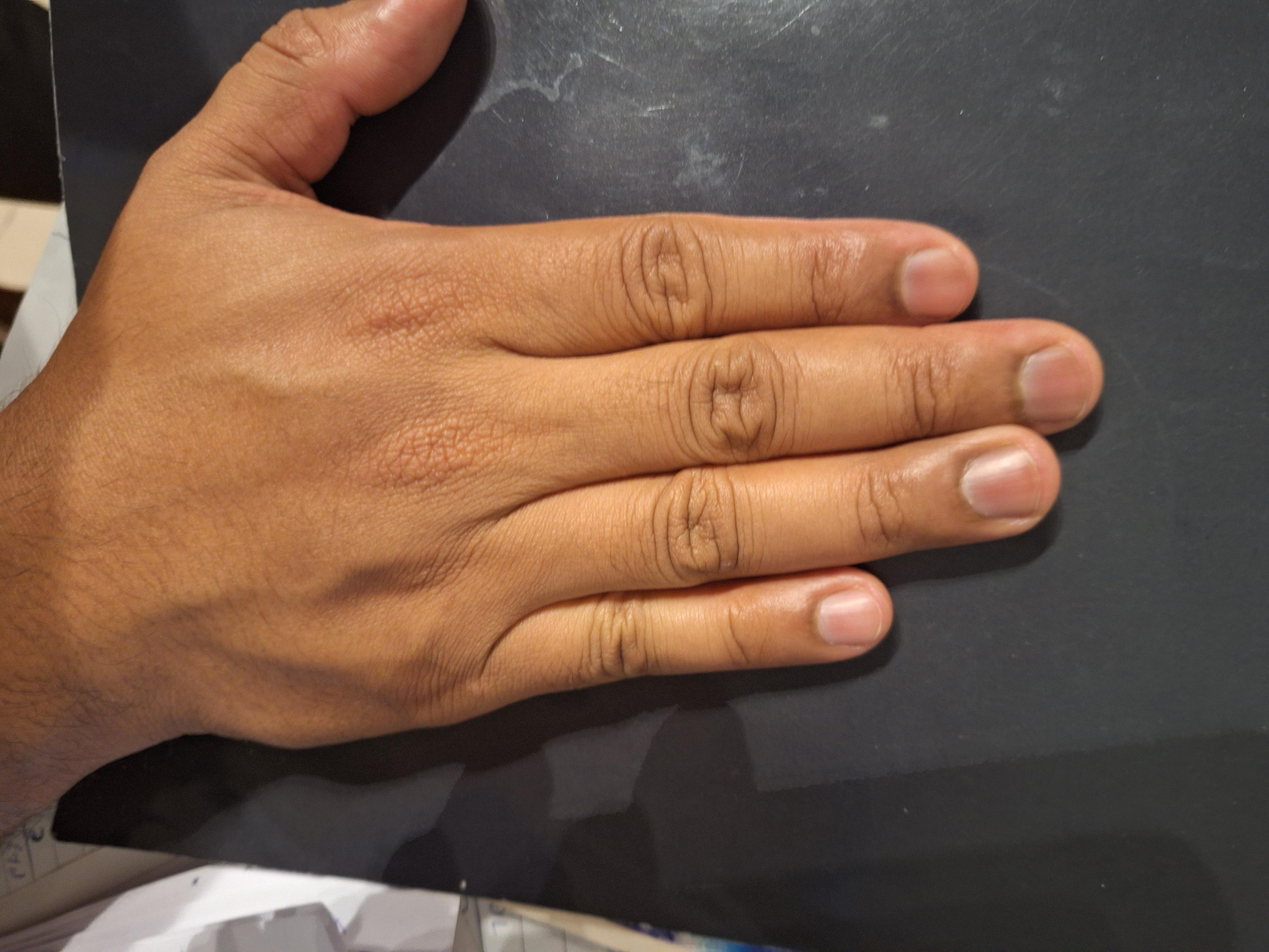Fingernail: (961, 443, 1041, 518), (1021, 345, 1088, 424), (901, 246, 968, 319), (818, 586, 881, 645)
